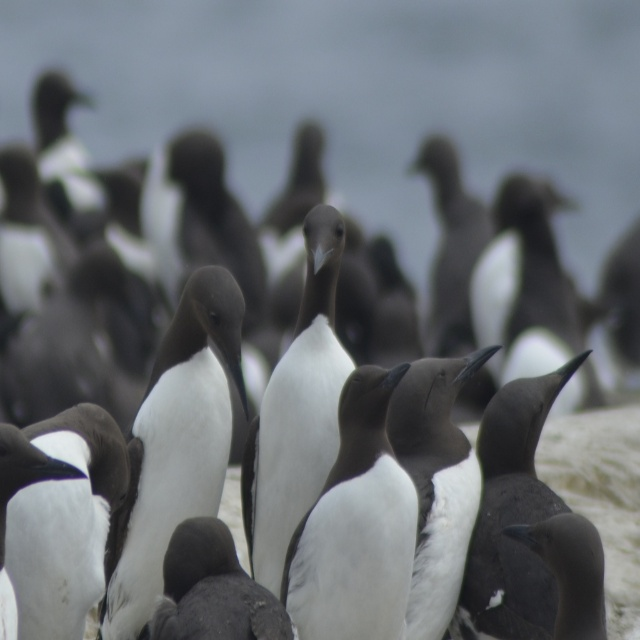Penguin: (0, 67, 640, 639)
